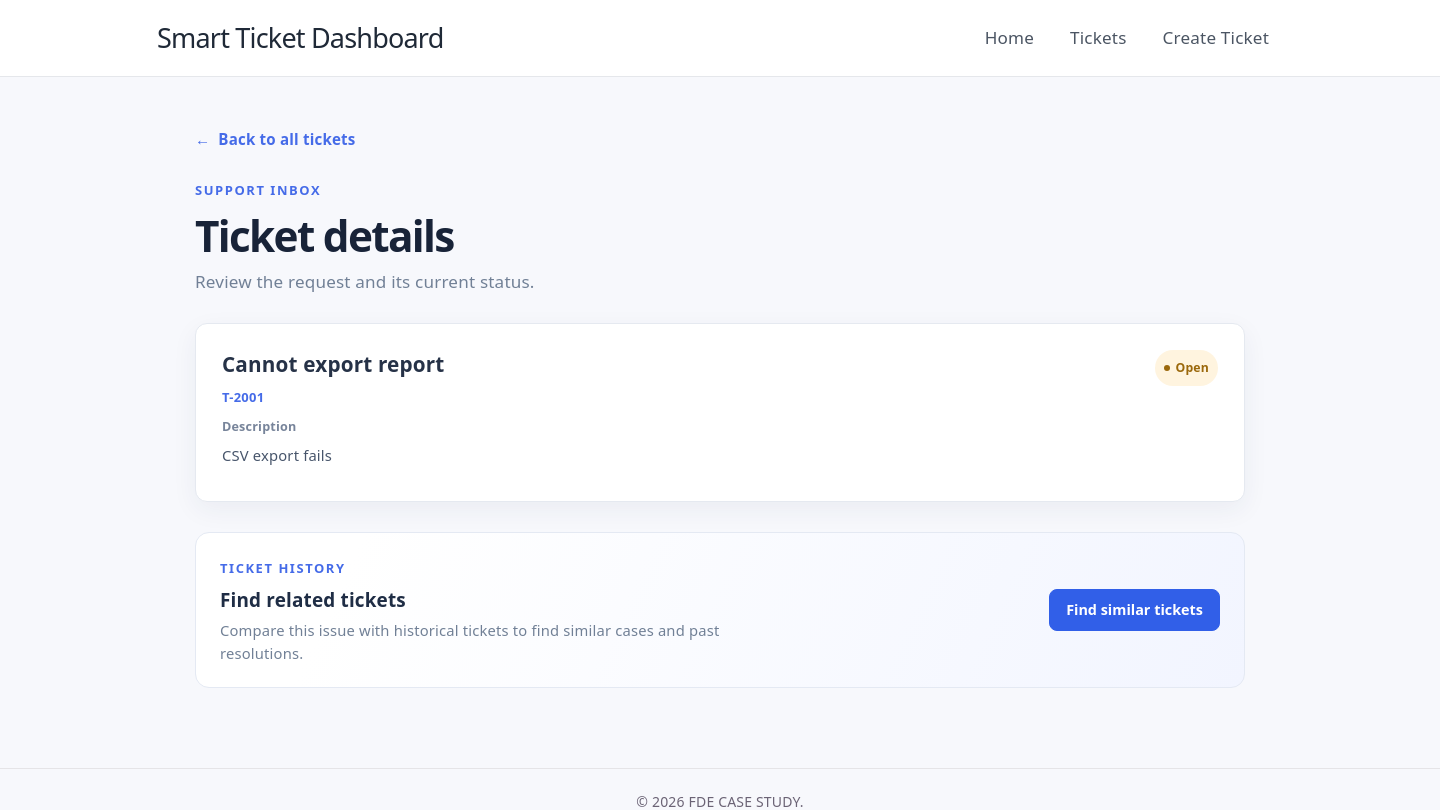
TicketDetails › searches with the current ticket and displays only other resolved matches
The image size is (1440, 810).
Expected: the heading "Cannot export report" is shown, [222,350,444,379]
Click the button "Find similar tickets" at [1135, 610], box [1049,589,1220,631]
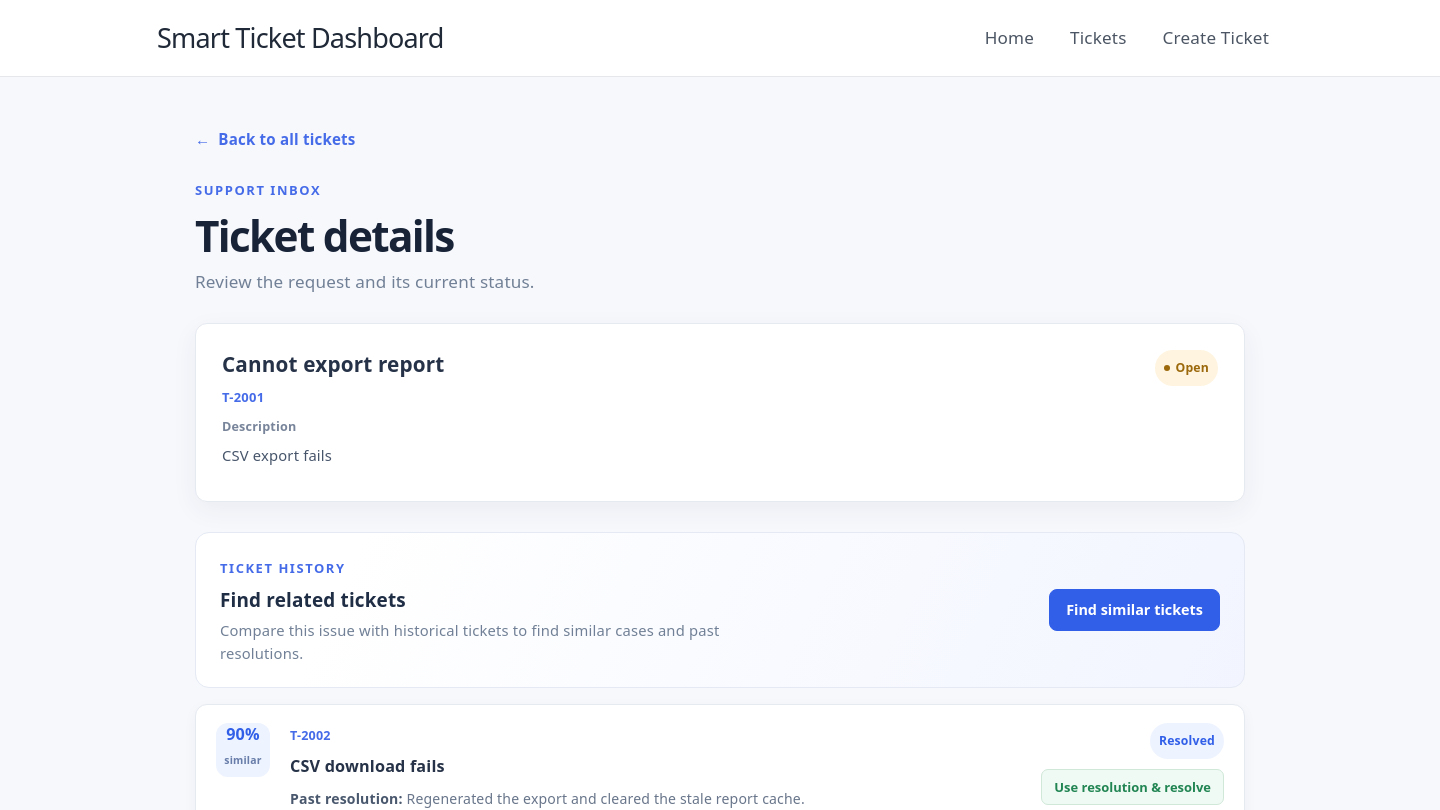
Expected: the heading "CSV download fails" is shown, [290,755,445,777]
Expected: the text "Regenerated the export and cleared the stale report cache." is shown, [406,789,805,808]
